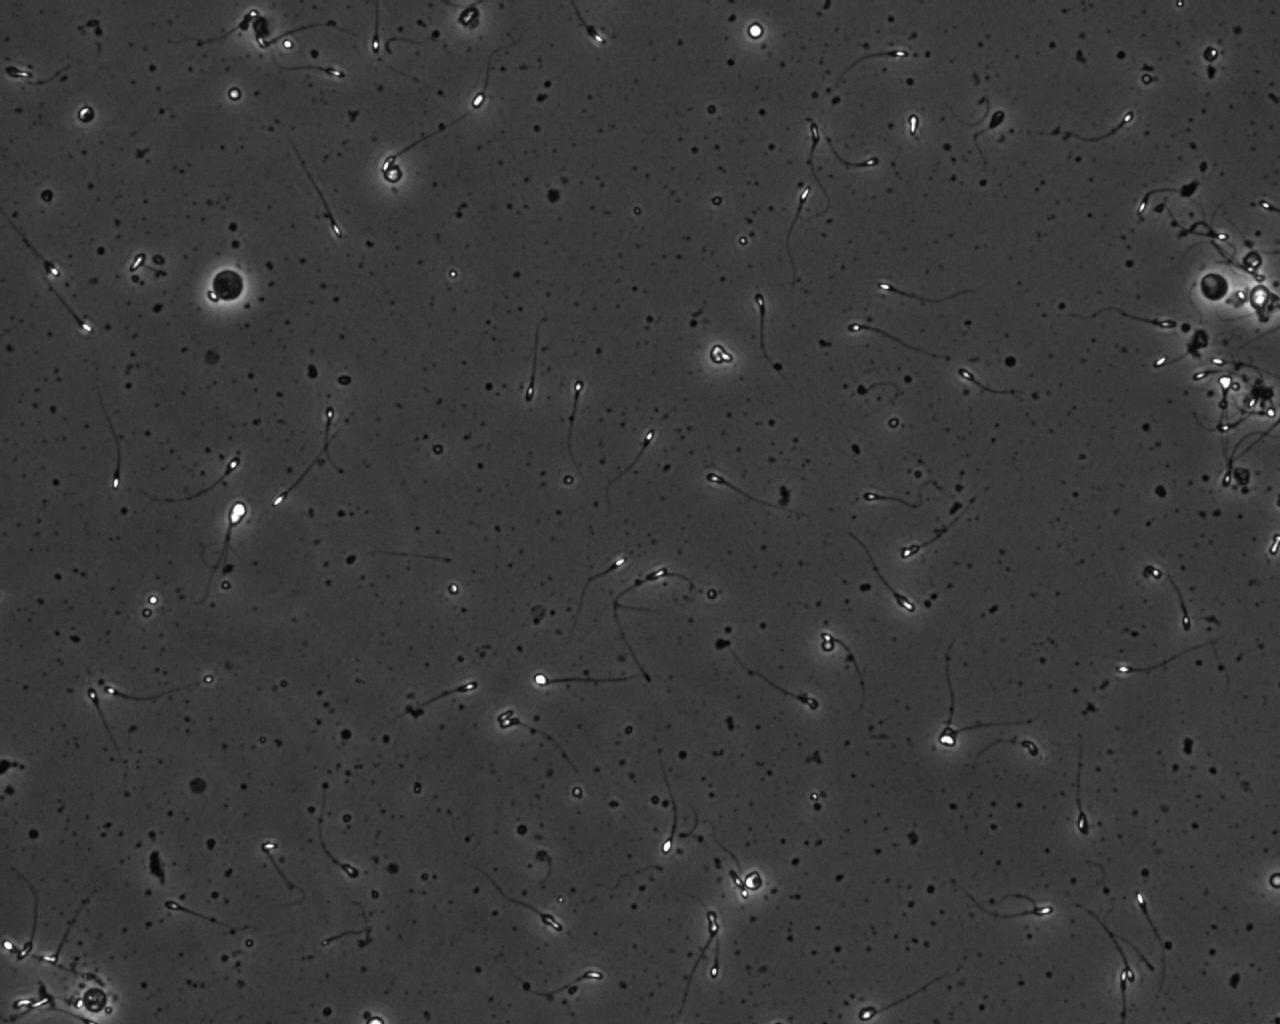cell: (207, 264, 249, 305), (1195, 267, 1234, 307), (79, 983, 111, 1016), (1246, 280, 1274, 315), (706, 340, 736, 367), (1239, 247, 1266, 274), (380, 160, 406, 187), (740, 867, 766, 894), (73, 101, 98, 127), (743, 18, 767, 43), (1266, 866, 1280, 893)
